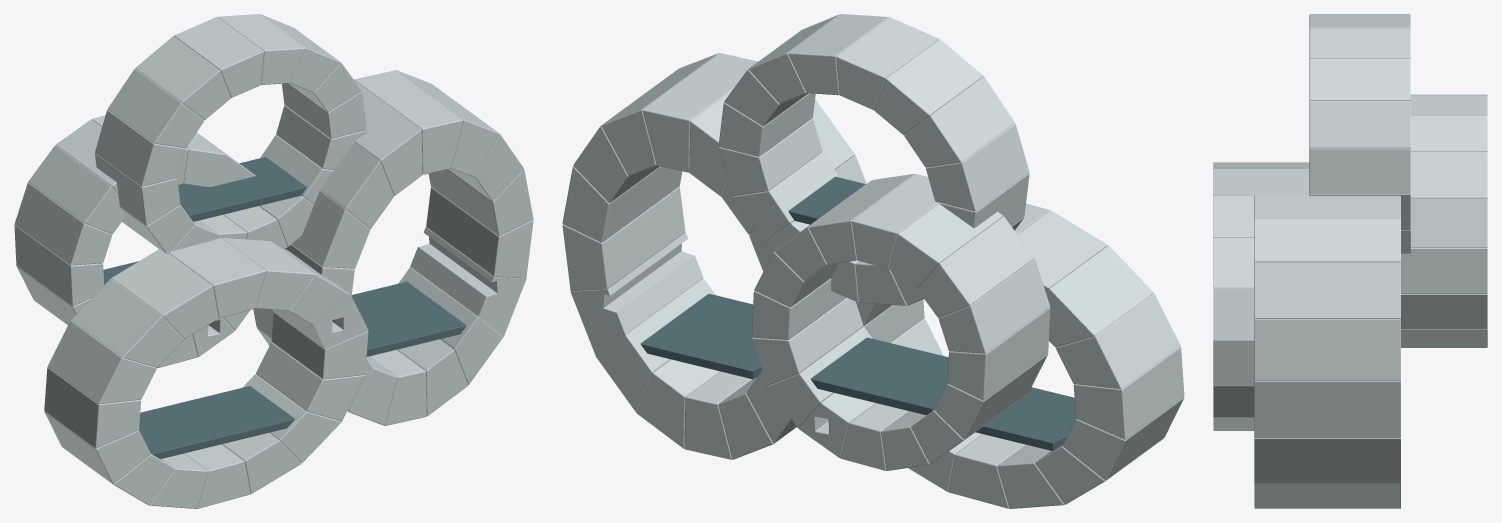
3 views of the same model, side by side, from view 1: azimuth 30°, elevation 25°; view 2: azimuth 150°, elevation 25°; view 3: azimuth 270°, elevation 25° (orthographic). The views are drawn at different scales.
Visible parts, largest first — view 1: B01_LOWER_SEA__inner_landscape, B01_LOWER_SEA__inhabited_sector_05, B02_EAST_INNER__inhabited_sector_15, B02_EAST_INNER__inner_landscape, B01_LOWER_SEA__inhabited_sector_04, B01_LOWER_SEA__inhabited_sector_06, B02_EAST_INNER__inhabited_sector_00, B02_EAST_INNER__inhabited_sector_04, B04_REVERSE_WORLD__inhabited_sector_07, B03_HIGH_SEED__inner_landscape, B04_REVERSE_WORLD__inhabited_sector_08, B03_HIGH_SEED__inhabited_sector_05 (+46 smaller); view 2: B04_REVERSE_WORLD__inner_landscape, B02_EAST_INNER__inhabited_sector_15, B01_LOWER_SEA__inhabited_sector_06, B02_EAST_INNER__inner_landscape, B01_LOWER_SEA__inhabited_sector_05, B02_EAST_INNER__inhabited_sector_00, B04_REVERSE_WORLD__inhabited_sector_07, B02_EAST_INNER__inhabited_sector_04, B04_REVERSE_WORLD__inhabited_sector_08, B03_HIGH_SEED__inhabited_sector_05, B03_HIGH_SEED__inhabited_sector_04, B01_LOWER_SEA__inhabited_sector_07 (+46 smaller); view 3: B02_EAST_INNER__inhabited_sector_01, B02_EAST_INNER__inhabited_sector_00, B02_EAST_INNER__inhabited_sector_02, B02_EAST_INNER__inhabited_sector_15, B02_EAST_INNER__inhabited_sector_03, B03_HIGH_SEED__inhabited_sector_00, B03_HIGH_SEED__inhabited_sector_15, B03_HIGH_SEED__inhabited_sector_01, B04_REVERSE_WORLD__inhabited_sector_01, B04_REVERSE_WORLD__inhabited_sector_02, B04_REVERSE_WORLD__inhabited_sector_03, B02_EAST_INNER__inhabited_sector_14 (+16 smaller).
Boxes of the visible parts, x1,y1,x2,y2 form: B01_LOWER_SEA__inner_landscape: [139, 386, 295, 459]; B01_LOWER_SEA__inhabited_sector_05: [71, 278, 183, 367]; B02_EAST_INNER__inhabited_sector_15: [410, 227, 526, 336]; B02_EAST_INNER__inner_landscape: [351, 281, 466, 356]; B01_LOWER_SEA__inhabited_sector_04: [111, 249, 218, 338]; B01_LOWER_SEA__inhabited_sector_06: [47, 320, 156, 404]; B02_EAST_INNER__inhabited_sector_00: [426, 187, 533, 278]; B02_EAST_INNER__inhabited_sector_04: [354, 70, 463, 174]; B04_REVERSE_WORLD__inhabited_sector_07: [28, 145, 125, 234]; B03_HIGH_SEED__inner_landscape: [178, 157, 306, 221]; B04_REVERSE_WORLD__inhabited_sector_08: [14, 182, 111, 265]; B03_HIGH_SEED__inhabited_sector_05: [107, 69, 204, 148]; B04_REVERSE_WORLD__inner_landscape: [810, 337, 948, 415]; B02_EAST_INNER__inhabited_sector_15: [570, 232, 703, 357]; B01_LOWER_SEA__inhabited_sector_06: [1055, 293, 1180, 389]; B02_EAST_INNER__inner_landscape: [640, 293, 761, 379]; B01_LOWER_SEA__inhabited_sector_05: [1046, 245, 1153, 347]; B02_EAST_INNER__inhabited_sector_00: [562, 186, 685, 291]; B04_REVERSE_WORLD__inhabited_sector_07: [917, 216, 1034, 317]; B02_EAST_INNER__inhabited_sector_04: [642, 53, 757, 172]; B04_REVERSE_WORLD__inhabited_sector_08: [938, 258, 1050, 353]; B03_HIGH_SEED__inhabited_sector_05: [904, 76, 1014, 167]; B03_HIGH_SEED__inhabited_sector_04: [874, 39, 983, 135]; B01_LOWER_SEA__inhabited_sector_07: [1073, 346, 1184, 439]; B02_EAST_INNER__inhabited_sector_01: [1254, 319, 1400, 380]; B02_EAST_INNER__inhabited_sector_00: [1254, 380, 1400, 438]; B02_EAST_INNER__inhabited_sector_02: [1254, 262, 1400, 319]; B02_EAST_INNER__inhabited_sector_15: [1254, 438, 1400, 483]; B02_EAST_INNER__inhabited_sector_03: [1254, 219, 1400, 262]; B03_HIGH_SEED__inhabited_sector_00: [1309, 101, 1410, 148]; B03_HIGH_SEED__inhabited_sector_15: [1309, 147, 1410, 193]; B03_HIGH_SEED__inhabited_sector_01: [1309, 58, 1410, 101]; B04_REVERSE_WORLD__inhabited_sector_01: [1401, 248, 1487, 293]; B04_REVERSE_WORLD__inhabited_sector_02: [1410, 198, 1487, 247]; B04_REVERSE_WORLD__inhabited_sector_03: [1410, 151, 1487, 198]; B02_EAST_INNER__inhabited_sector_14: [1254, 483, 1400, 507].
Size of the model in its own units: 5600 by 4661 by 2710.
